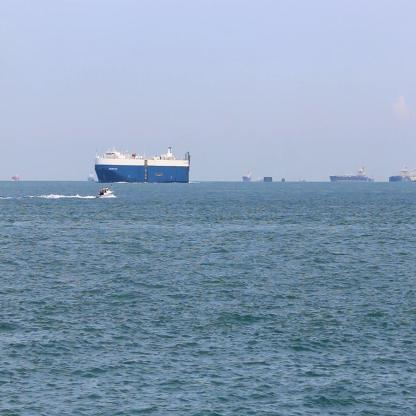Container Ship: (93, 140, 192, 186), (328, 164, 368, 183), (386, 164, 416, 183), (241, 166, 253, 183), (10, 168, 22, 184), (86, 168, 96, 183), (368, 171, 376, 183)
